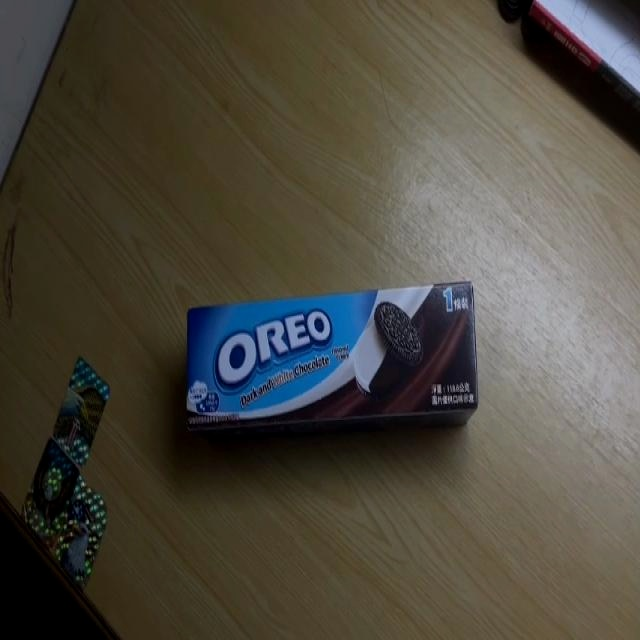Oreo: (186, 277, 478, 443)
